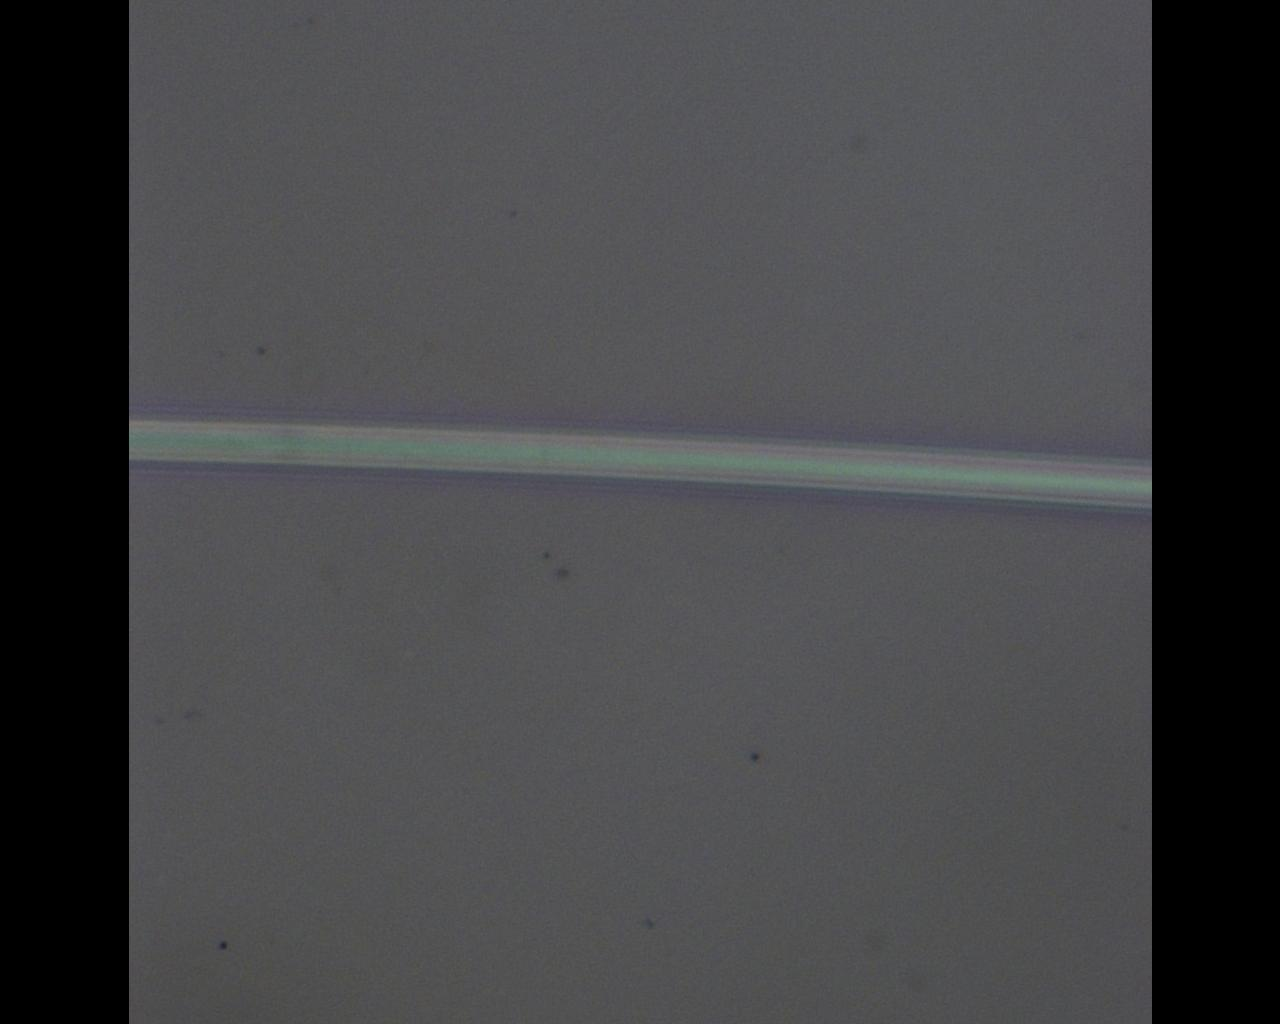fiber: (127, 411, 1151, 508)
